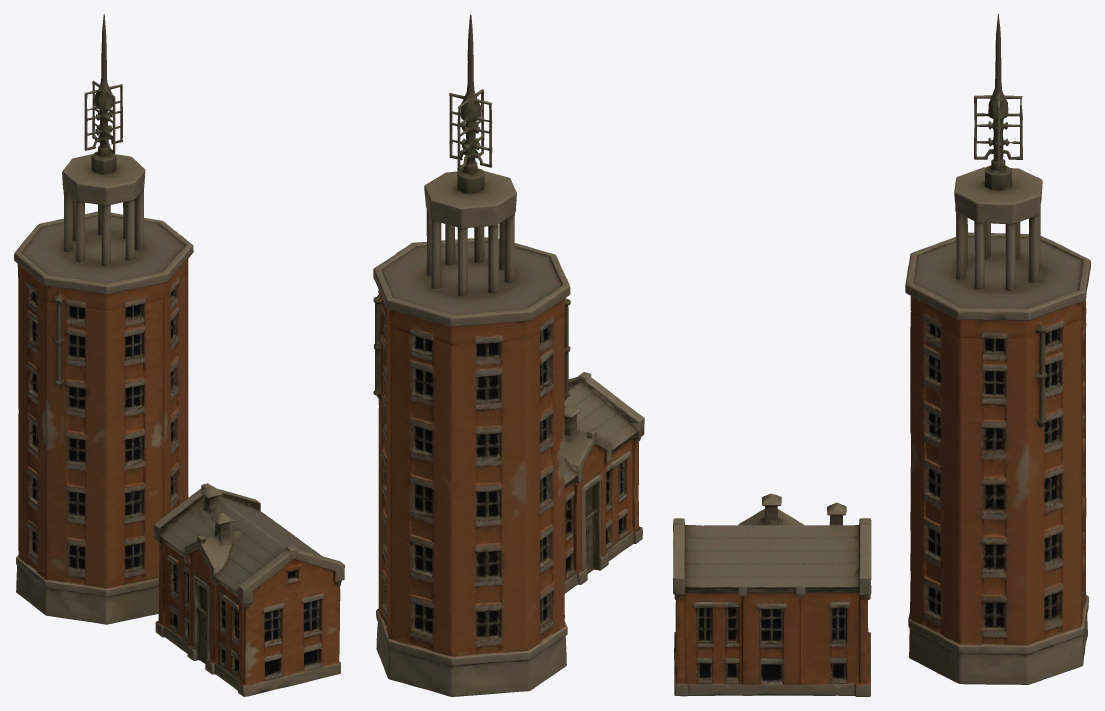
The model's file is tripo_convert_ec8a7928-e5b4-4b0f-a4c3-2363c8e9a2db.fbx.
The picture shows the model from 3 angles, left to right: view 1: azimuth 30°, elevation 25°; view 2: azimuth 150°, elevation 25°; view 3: azimuth 270°, elevation 25°; orthographic projection. The views are drawn at different scales.
Parts seen in each view (by area): view 1: tripo_node_ec8a7928; view 2: tripo_node_ec8a7928; view 3: tripo_node_ec8a7928.
Part boxes in pixels (box(x1,y1,x2,y2)): tripo_node_ec8a7928: box(14, 14, 344, 696); tripo_node_ec8a7928: box(373, 14, 644, 696); tripo_node_ec8a7928: box(673, 14, 1090, 696).
Size of the model in its own units: 0.3073 by 1 by 0.5972.
1 material, 1 textured.
